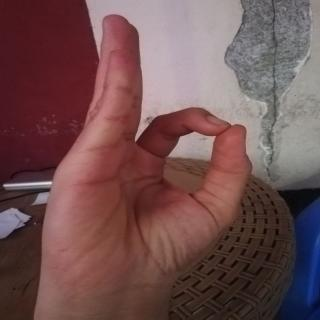Space: (44, 12, 260, 294)
